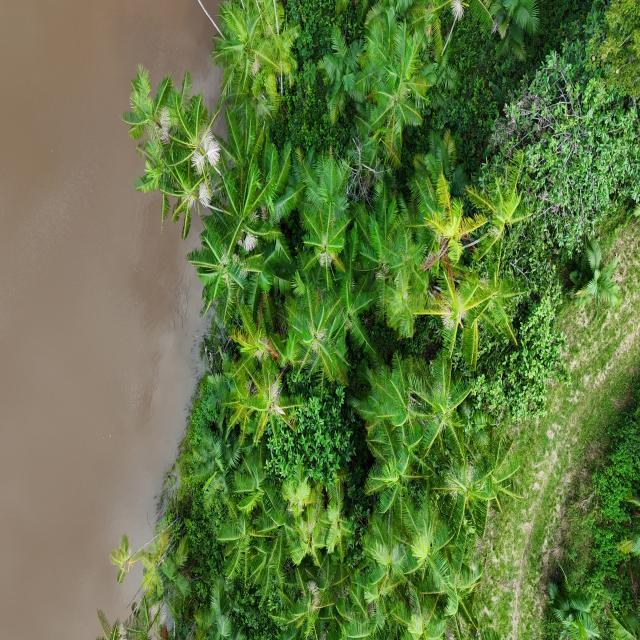vegetation: (96, 1, 637, 638)
